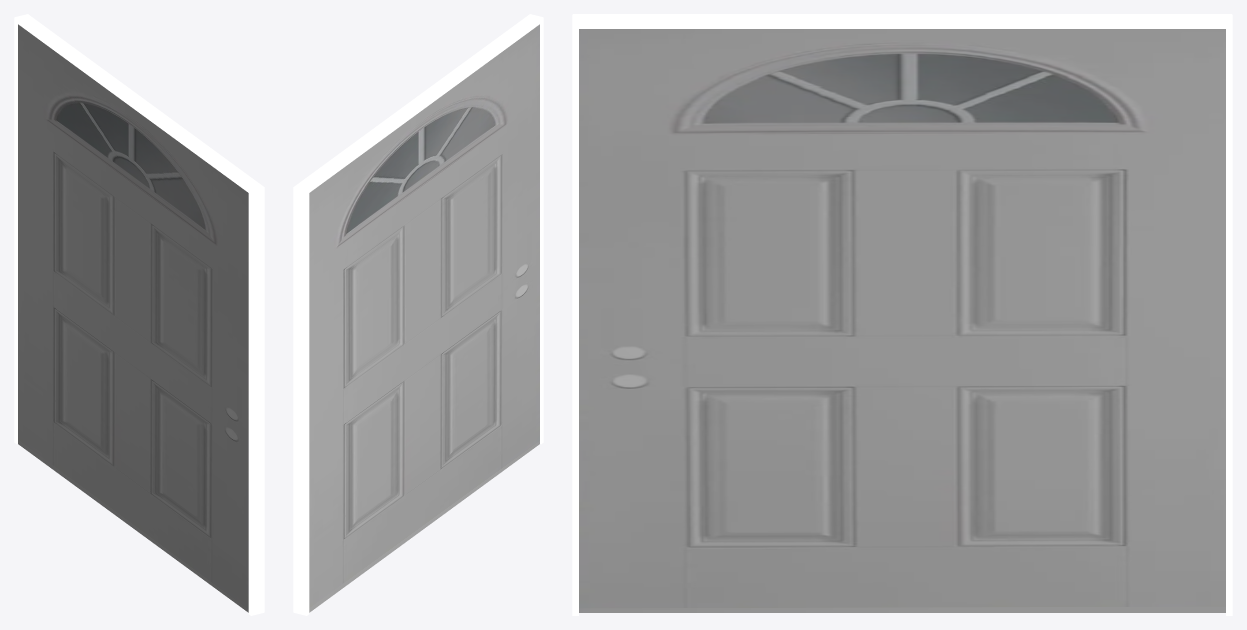
Rendered from 5-lite-walkin-door.f178105b.gltf.
3 views of the same model, side by side, from view 1: azimuth 30°, elevation 25°; view 2: azimuth 150°, elevation 25°; view 3: azimuth 270°, elevation 25° (orthographic). The views are drawn at different scales.
Parts seen in each view (by area): view 1: Doors, trims; view 2: Doors, trims; view 3: Doors, trims.
Boxes of the visible parts, left/top/right/bottom form: Doors: left=18, top=24, right=248, bottom=612; trims: left=14, top=14, right=264, bottom=615; Doors: left=309, top=24, right=539, bottom=612; trims: left=293, top=14, right=543, bottom=615; Doors: left=579, top=29, right=1225, bottom=612; trims: left=572, top=14, right=1232, bottom=615.
Size of the model in its own units: 0.2 by 6.01 by 6.07.
2 materials, 1 textured.
